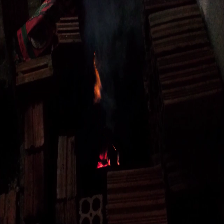fire_h: (92, 53, 102, 100)
fire_l: (97, 151, 110, 169), (116, 154, 120, 165)
